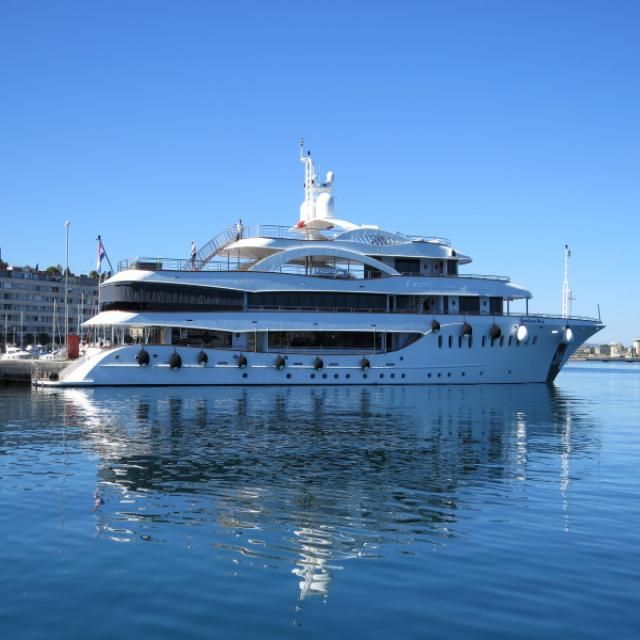cruises: (29, 141, 607, 394)
